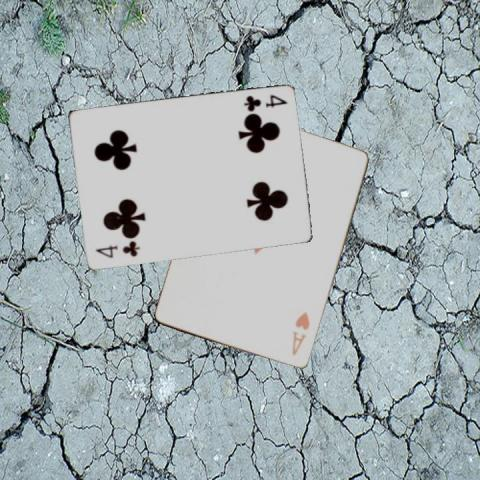4c: (92, 240, 141, 260), (241, 92, 288, 112)
Ah: (290, 309, 312, 357)
